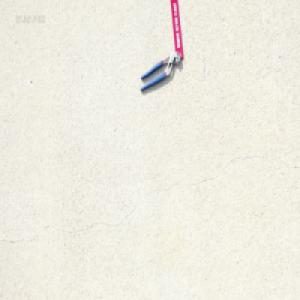Label: (170, 0, 184, 58)
Pliers: (140, 48, 182, 91)
